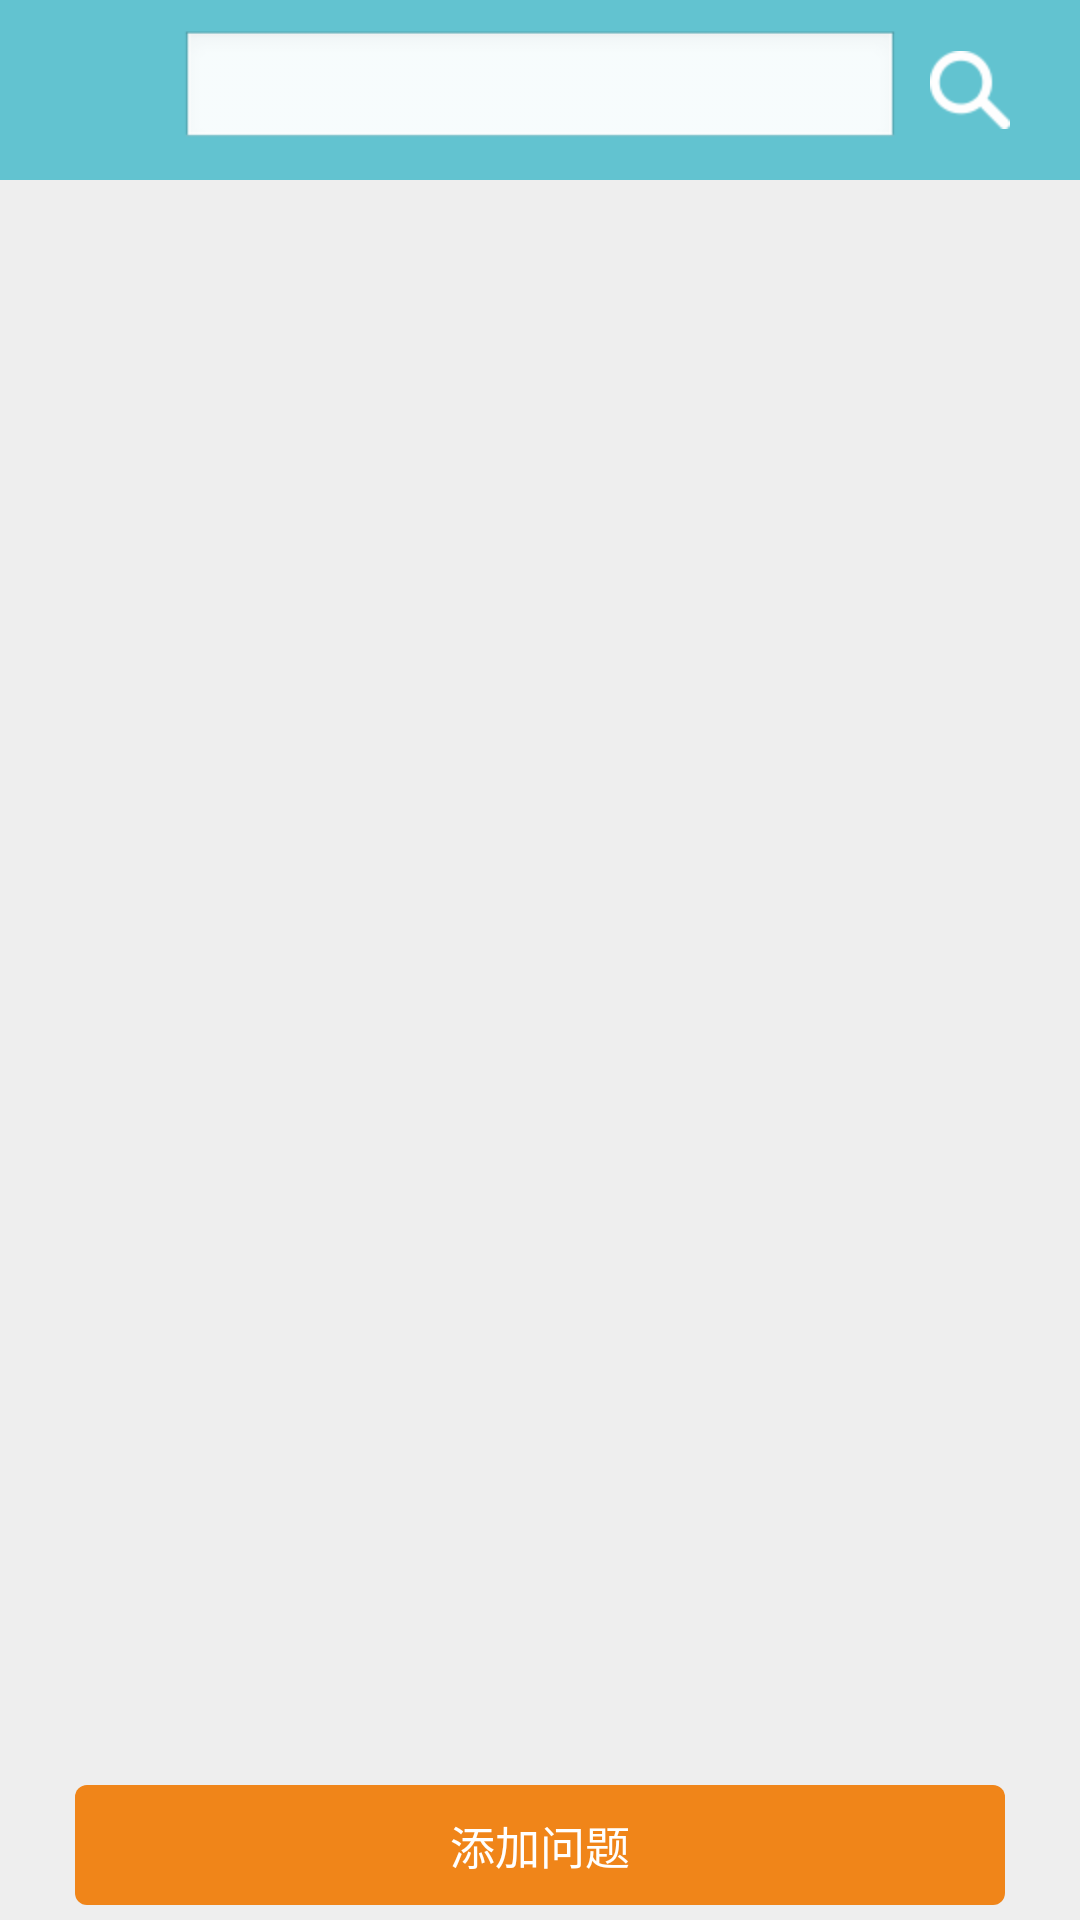

Locate icon controls on the screen. Image size 1080*1920, boxes as [x1,y1,x2,y2].
search: [930,51,1010,129]
